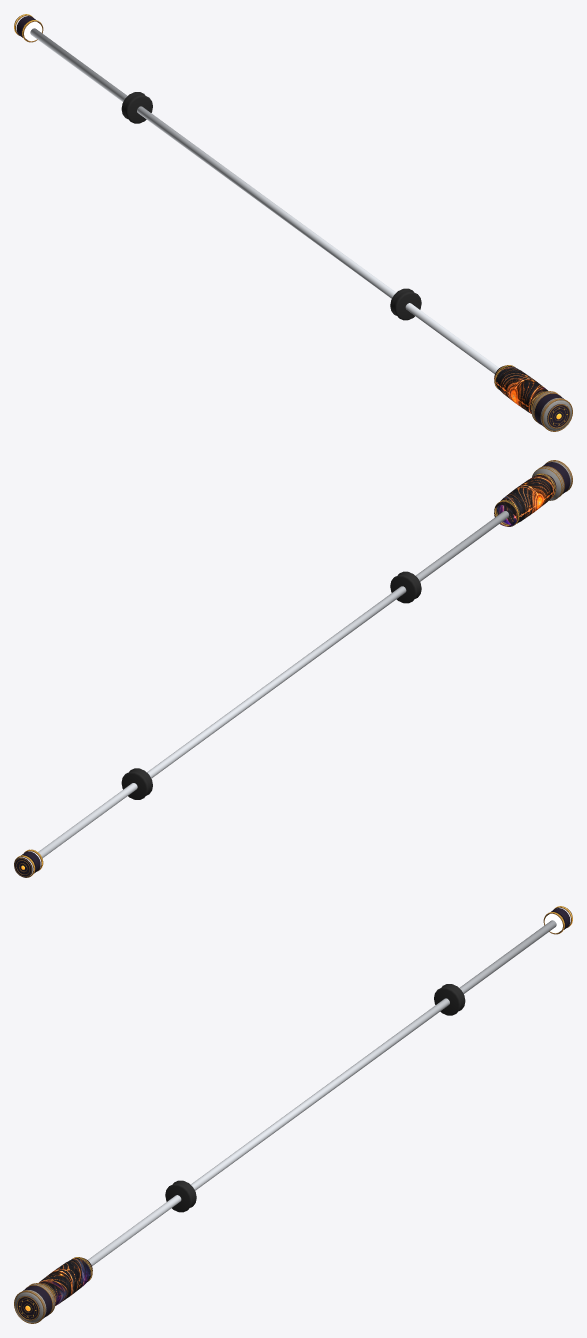
File: fuzeball_rod_5man.glb
The picture shows the model from 3 angles, top to bottom: view 1: azimuth 30°, elevation 25°; view 2: azimuth 150°, elevation 25°; view 3: azimuth 330°, elevation 25°; orthographic projection.
Visible parts, largest first — view 1: rod5_bar.002, rod5_handle_relic, CylinderL, CylinderR; view 2: rod5_bar.002, rod5_handle_relic, CylinderL, CylinderR; view 3: rod5_bar.002, rod5_handle_relic, CylinderL, CylinderR.
Part boxes in pixels (x1,y1,x2,y2): rod5_bar.002: [30, 28, 498, 373]; rod5_handle_relic: [494, 365, 548, 413]; CylinderL: [390, 288, 421, 320]; CylinderR: [121, 92, 152, 123]; rod5_bar.002: [38, 511, 509, 858]; rod5_handle_relic: [494, 474, 556, 526]; CylinderL: [390, 571, 421, 603]; CylinderR: [121, 768, 152, 799]; rod5_bar.002: [88, 920, 556, 1265]; rod5_handle_relic: [38, 1257, 92, 1305]; CylinderL: [165, 1180, 196, 1212]; CylinderR: [434, 984, 465, 1015].
Bounding box in the file's own units: 3.49 × 3.49 × 106.
Materials: 8 (1 with a texture image).
